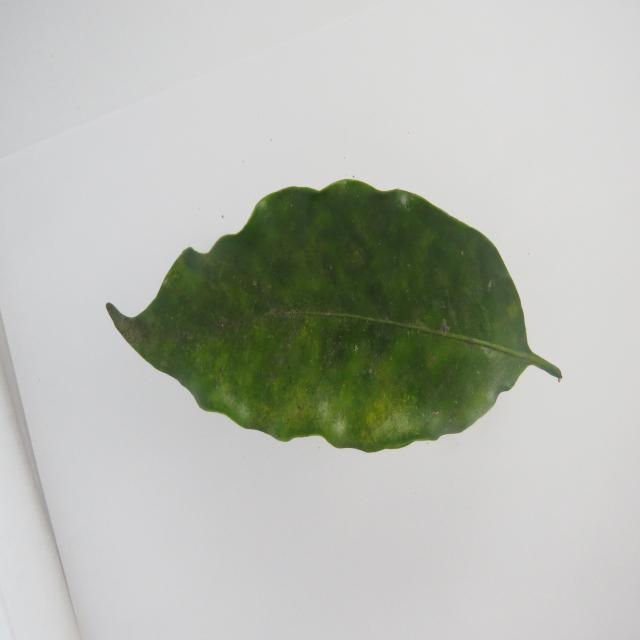DeficienciaNutricional-Calcio: (106, 180, 561, 452)
